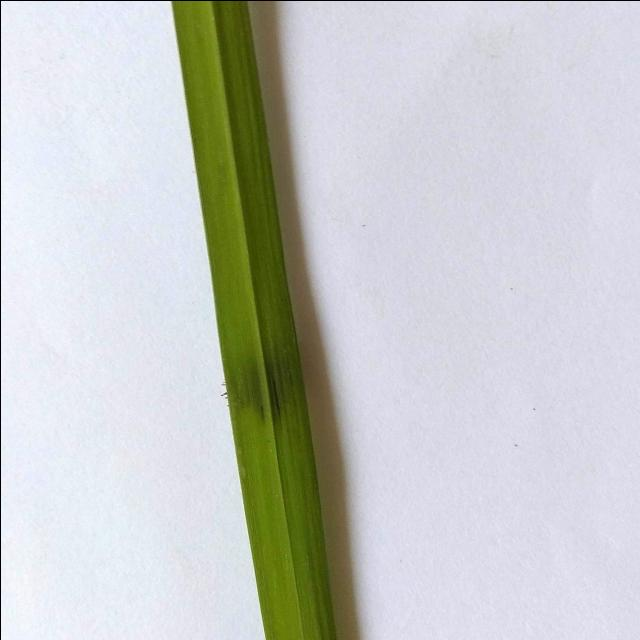healthy: (166, 0, 364, 640)
